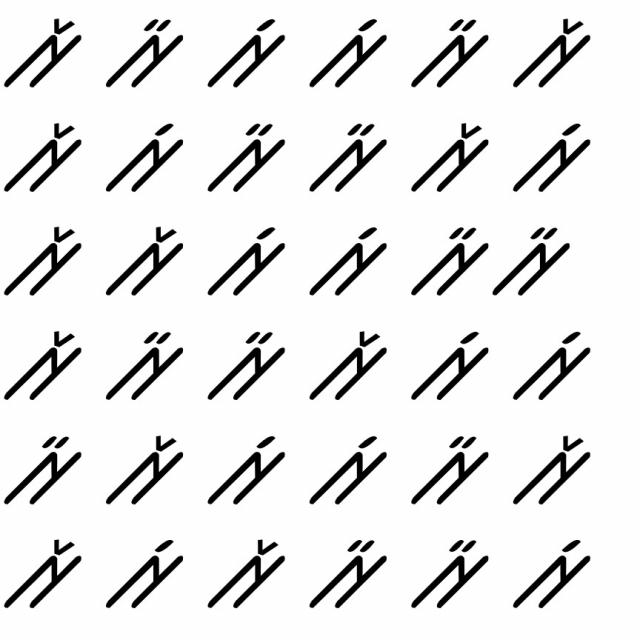wan: (407, 215, 492, 307), (303, 533, 392, 614), (208, 116, 292, 201), (494, 222, 576, 308), (2, 426, 84, 510), (404, 14, 494, 90), (406, 433, 494, 508), (308, 115, 388, 197), (103, 324, 187, 402), (203, 329, 290, 403), (410, 535, 494, 611), (99, 16, 185, 90)
wang: (512, 535, 603, 616), (99, 118, 186, 201), (201, 222, 288, 304), (104, 535, 188, 617), (308, 433, 393, 513), (205, 430, 291, 508), (303, 219, 388, 297), (207, 14, 289, 93), (511, 325, 594, 403), (409, 327, 493, 404), (510, 118, 595, 194), (308, 18, 391, 89)
war: (308, 320, 388, 410), (101, 220, 186, 303), (1, 219, 86, 300), (209, 533, 293, 614), (511, 13, 596, 93), (103, 432, 192, 508), (5, 327, 88, 407), (512, 433, 597, 511), (5, 533, 90, 611), (412, 116, 492, 196), (5, 14, 84, 95), (5, 118, 84, 196)
